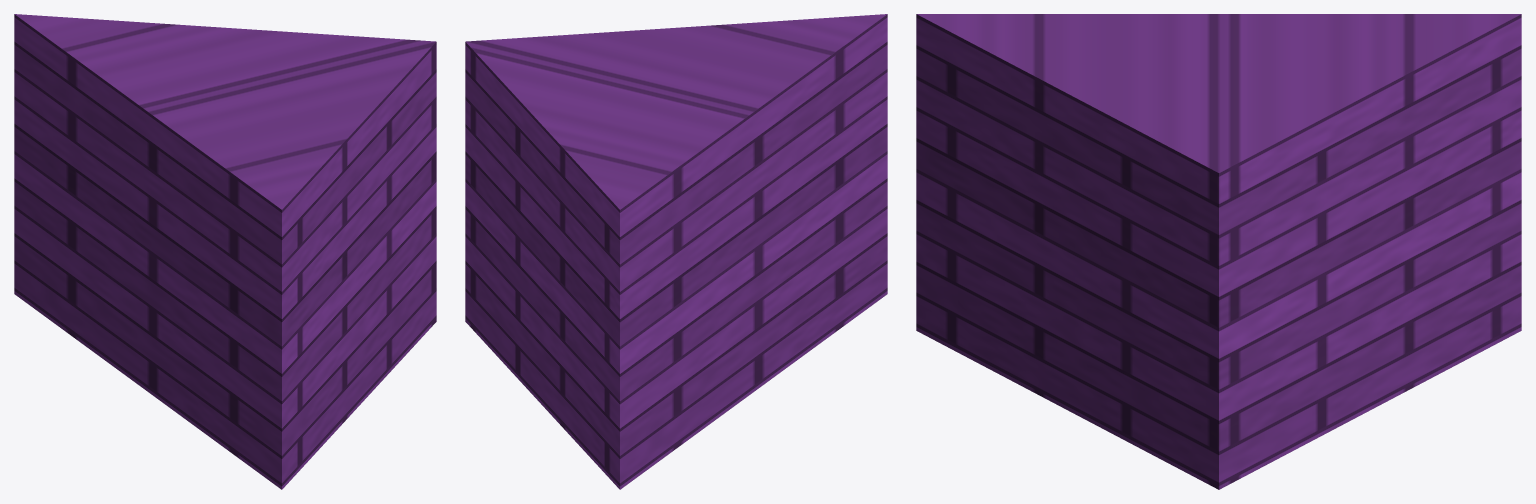
3 renders of one model, left to right at view 1: azimuth 30°, elevation 25°; view 2: azimuth 150°, elevation 25°; view 3: azimuth 270°, elevation 25°, orthographic. The views are drawn at different scales.
Visible parts, largest first — view 1: geometry_0; view 2: geometry_0; view 3: geometry_0.
Boxes of the visible parts, bbox=[...] form: geometry_0: bbox=[14, 14, 436, 489]; geometry_0: bbox=[465, 14, 887, 489]; geometry_0: bbox=[916, 14, 1521, 489].
Bounding box in the file's own units: 0.6831 × 0.6336 × 1.1.
1 material, 1 textured.
